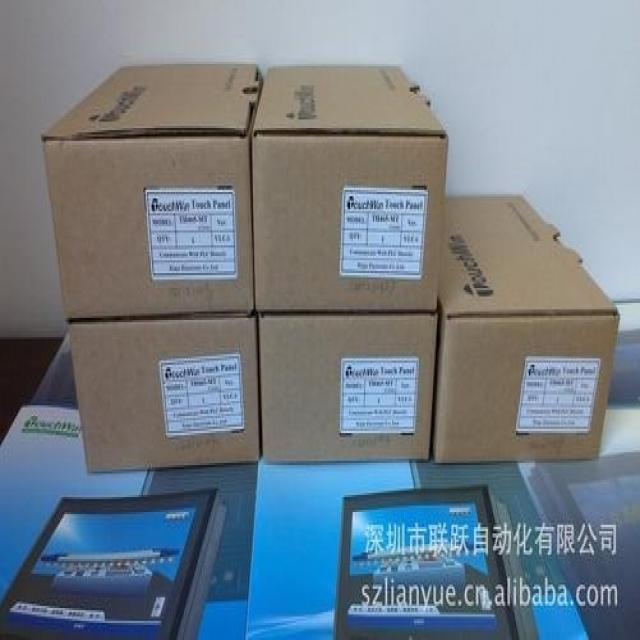box: (38, 62, 263, 325), (430, 190, 620, 466), (249, 62, 451, 314), (67, 312, 261, 475), (257, 313, 439, 466)
